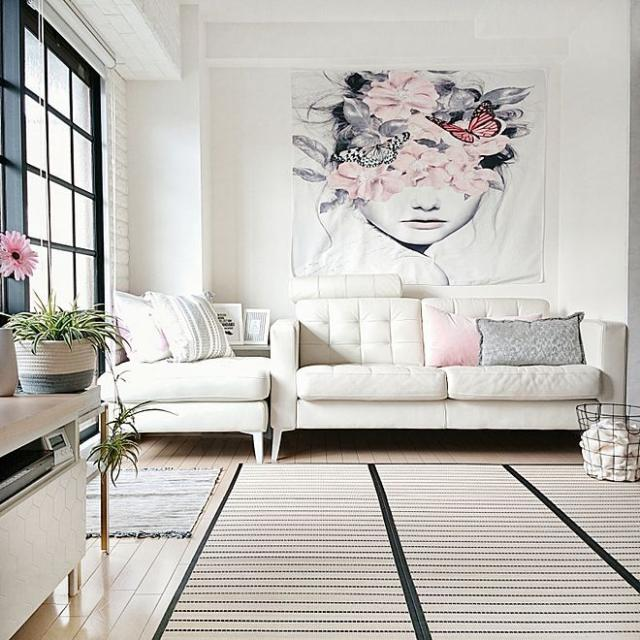white sofa: (246, 295, 607, 443), (90, 290, 284, 456)
